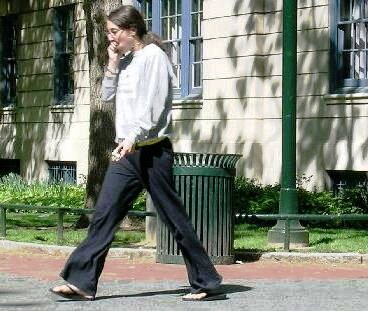person: (56, 6, 235, 303)
